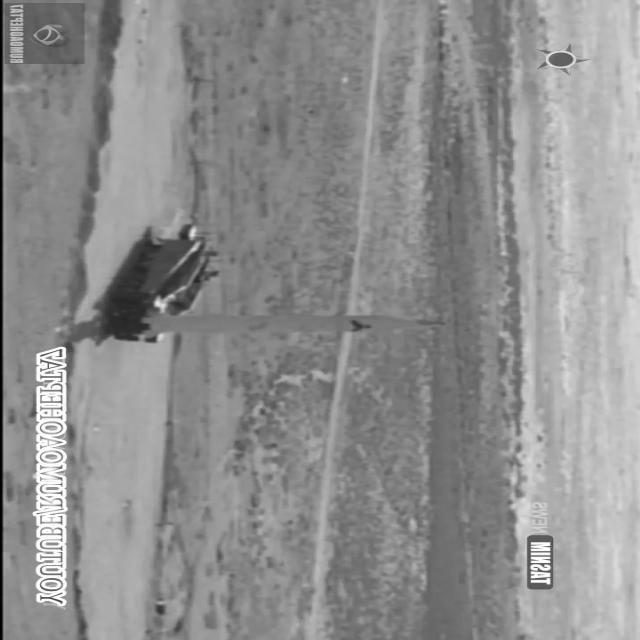Missile: (151, 310, 462, 338)
